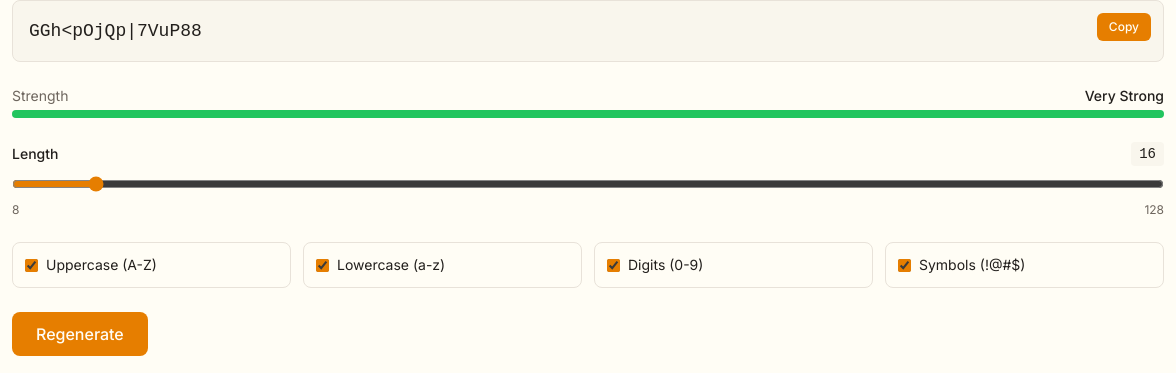
Test: PasswordGenerator › generates password with only digits when other options are unchecked
Note: Uncheck uppercase, lowercase, symbols (keep digits)
Click the checkbox labelled "Uppercase (A-Z)".
click(32, 265)  # box [25,258,38,272]
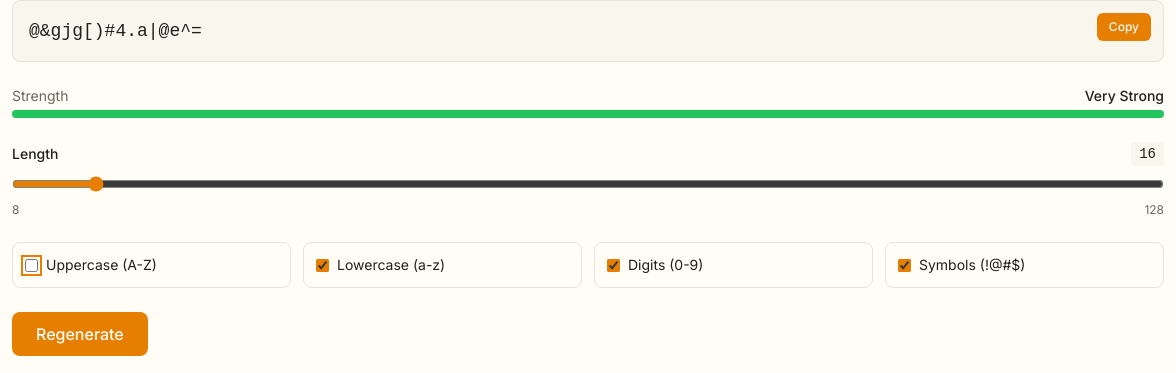
Click the checkbox labelled "Lowercase (a-z)".
click(322, 265)  # box [316,258,329,272]
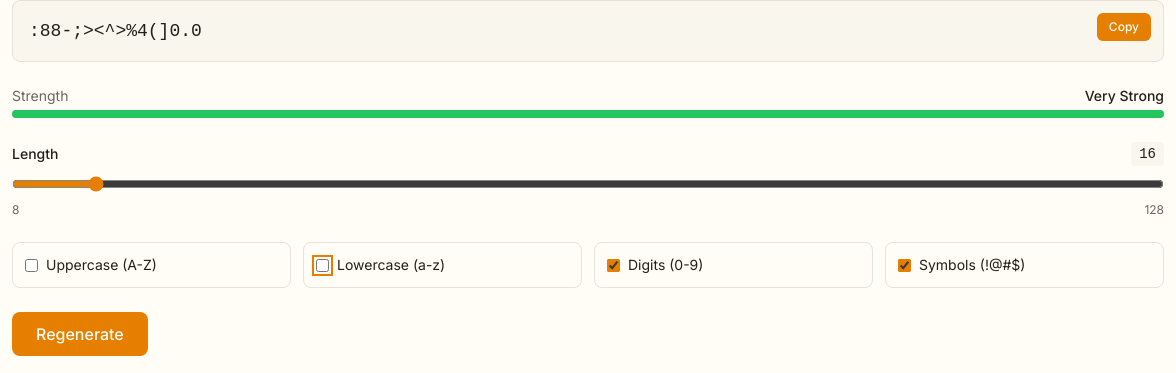
Click the checkbox labelled "Symbols (!@#$)".
click(904, 265)  # box [898,258,911,272]
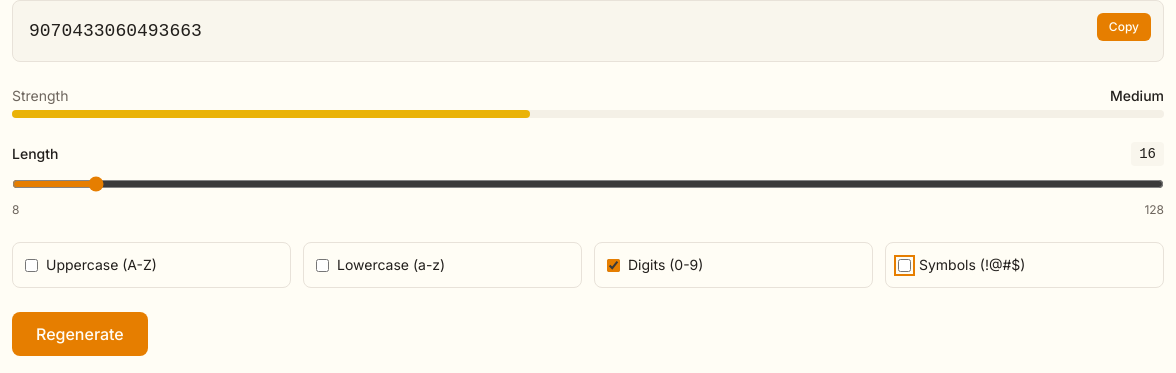
Expected: the text named "Generated password" reads "9070433060493663", [29,21,202,41]
